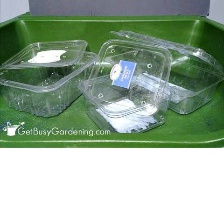plastic_box: (100, 24, 223, 119), (71, 36, 177, 133), (0, 33, 103, 121)
